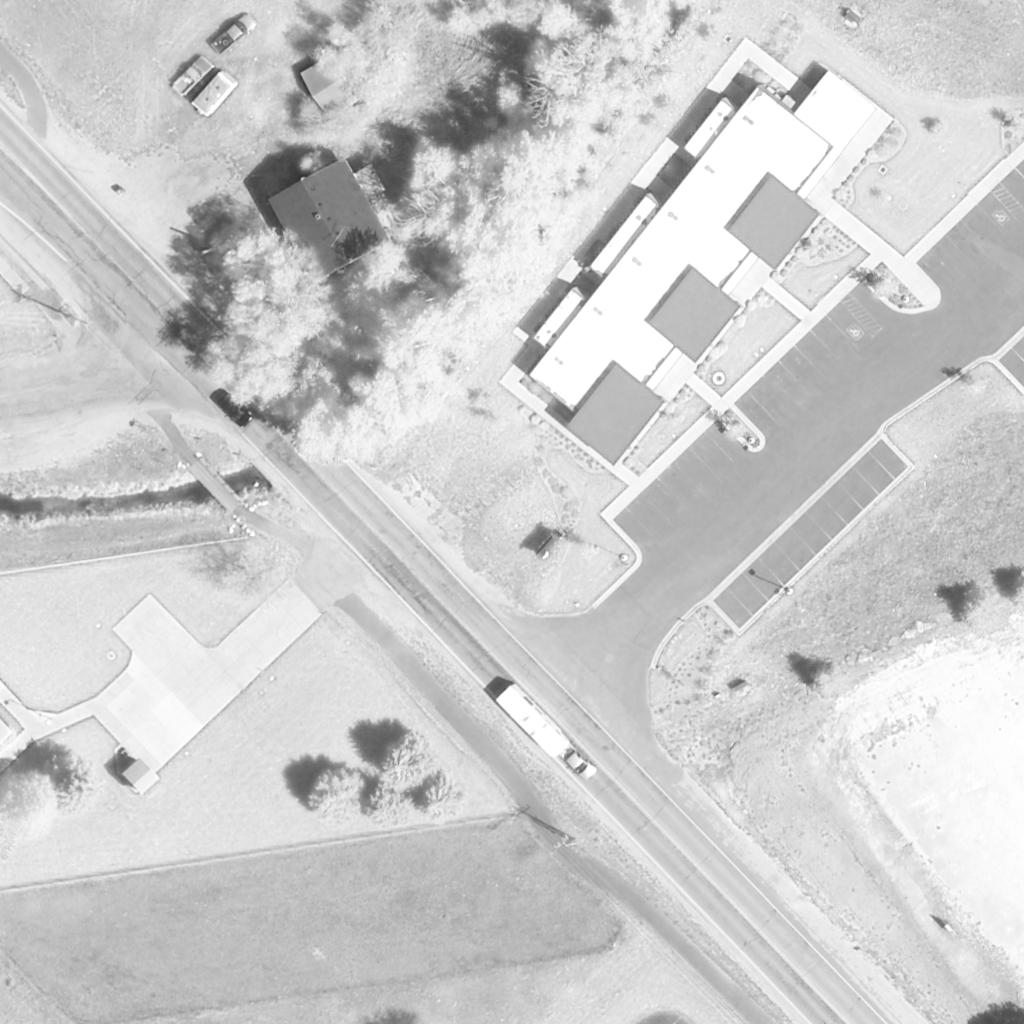vehicle: (494, 685, 574, 759), (191, 69, 239, 117), (208, 13, 260, 57), (170, 57, 214, 97), (557, 739, 597, 783), (216, 393, 254, 427)
